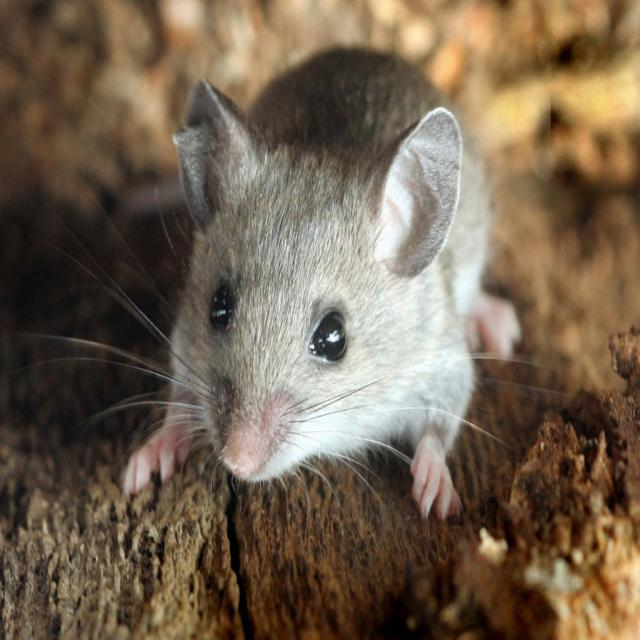rat: (7, 44, 580, 522)
